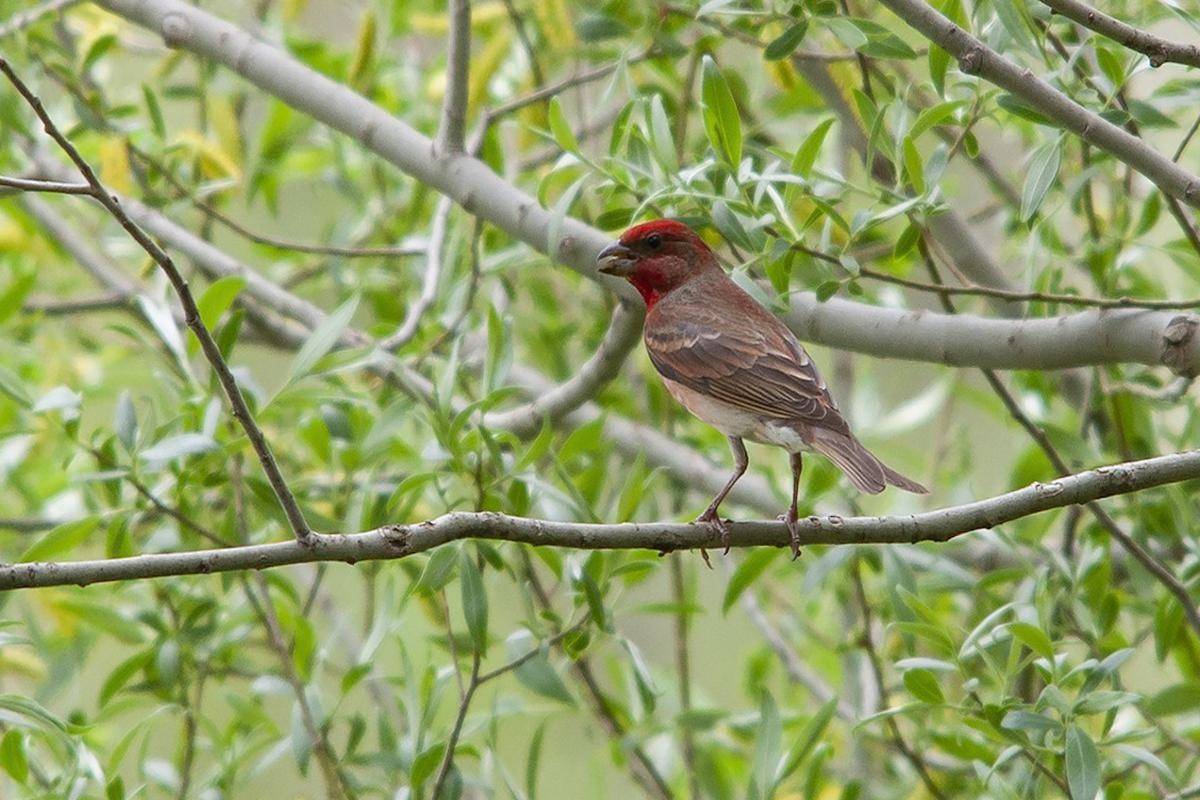rosefinch: (585, 203, 897, 543)
